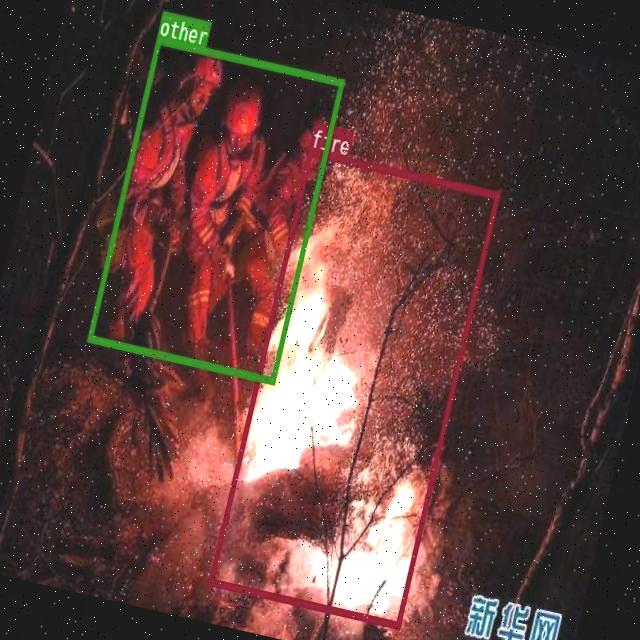fire: (207, 146, 500, 627)
